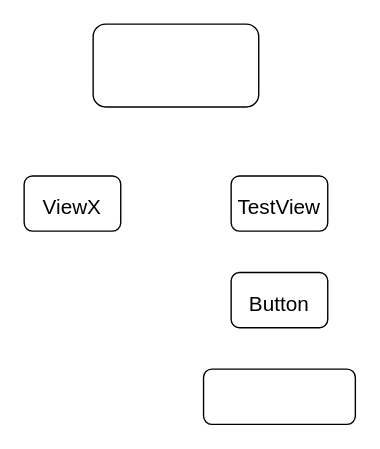
Image size: 380x449. Some labels were removed from this diagram. Each missing label, with the centre of its shape:
CustomButton: point 278,396
View: point 175,65
